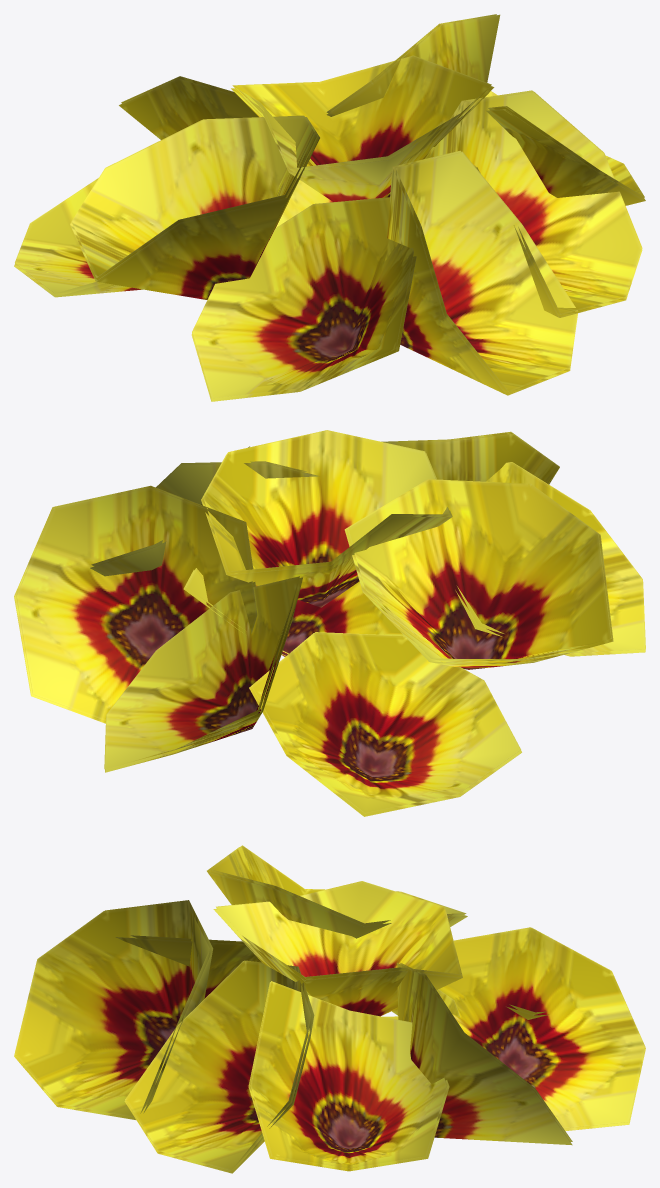
File: flower_yellow_2.fbx
3 views of the same model, one above another, from view 1: azimuth 30°, elevation 25°; view 2: azimuth 150°, elevation 25°; view 3: azimuth 270°, elevation 25° (orthographic). The views are drawn at different scales.
Parts seen in each view (by area): view 1: flower_yellow_2; view 2: flower_yellow_2; view 3: flower_yellow_2.
Boxes of the visible parts, x1,y1,x2,y2 form: flower_yellow_2: (14, 14, 645, 401); flower_yellow_2: (14, 430, 645, 816); flower_yellow_2: (14, 845, 645, 1173).
Bounding box in the file's own units: 1.24 × 0.4772 × 1.35.
